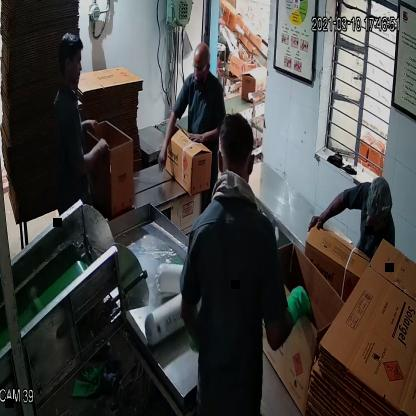glove: (282, 270, 314, 337)
no_glove: (307, 176, 363, 248), (70, 131, 113, 184), (154, 101, 180, 180), (182, 122, 224, 150)
